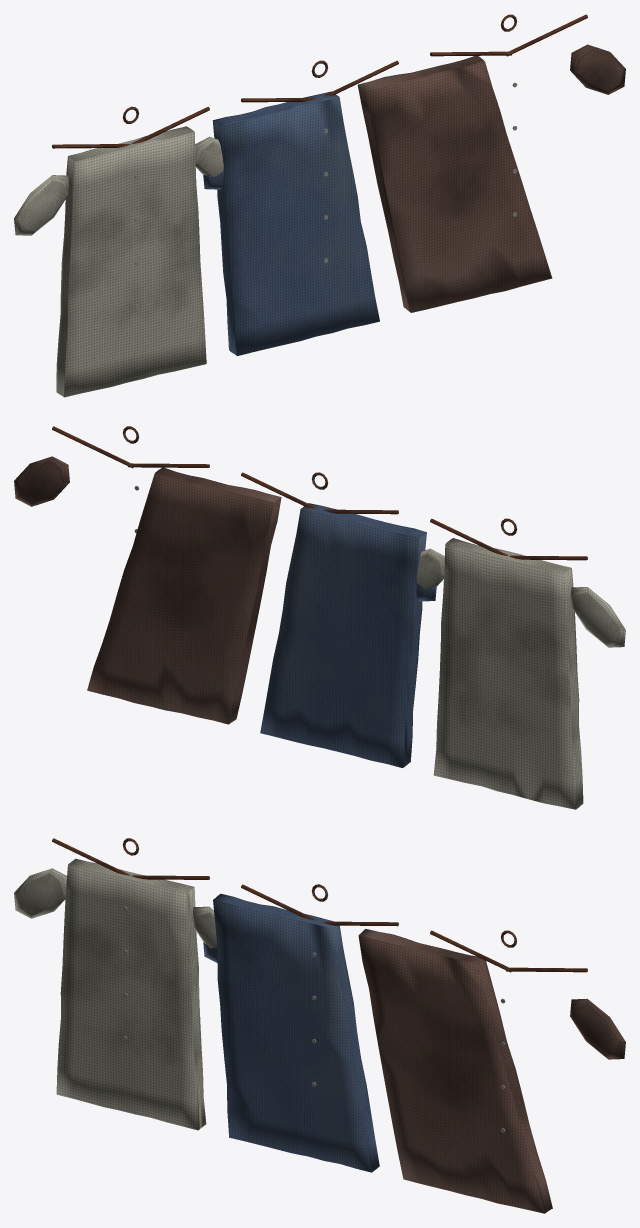
The model's file is CL03_HangingShirts.glb.
3 renders of one model, top to bottom at view 1: azimuth 30°, elevation 25°; view 2: azimuth 150°, elevation 25°; view 3: azimuth 330°, elevation 25°, orthographic.
Parts seen in each view (by area): view 1: CL03_HangingShirts; view 2: CL03_HangingShirts; view 3: CL03_HangingShirts.
Part boxes in pixels (left/top/right/bottom): CL03_HangingShirts: left=14, top=14, right=625, bottom=397; CL03_HangingShirts: left=14, top=426, right=625, bottom=809; CL03_HangingShirts: left=14, top=838, right=625, bottom=1213.
Bounding box in the file's own units: 0.7 × 0.2976 × 0.022.
5 materials, 5 textured.
